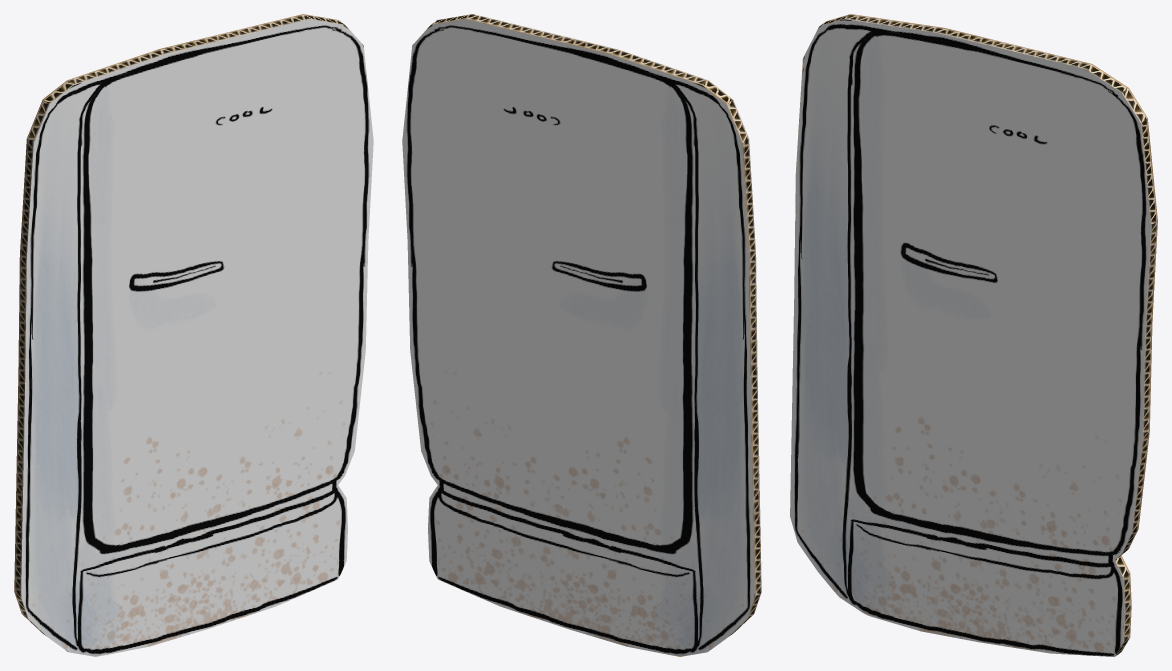
Rendered from fridgeMute.fbx.
3 views of the same model, side by side, from view 1: azimuth 30°, elevation 25°; view 2: azimuth 150°, elevation 25°; view 3: azimuth 330°, elevation 25° (orthographic). The views are drawn at different scales.
Visible parts, largest first — view 1: Plane; view 2: Plane; view 3: Plane.
Part boxes in pixels (x1=…): Plane: x1=14, y1=14, x2=373, y2=656; Plane: x1=402, y1=14, x2=761, y2=656; Plane: x1=790, y1=14, x2=1157, y2=656.
Size of the model in its own units: 4.31 by 6.87 by 0.1446.
